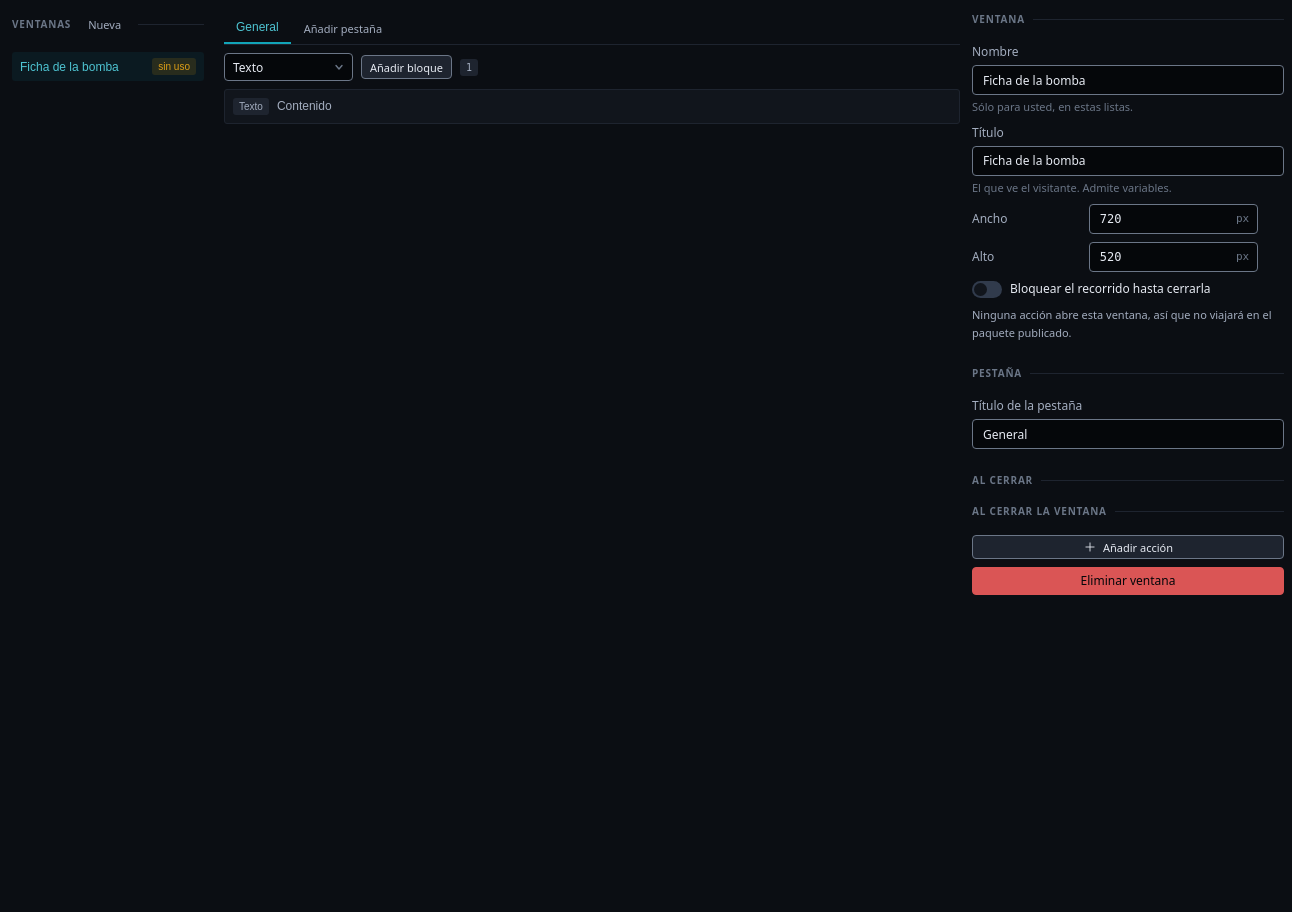
Test: InfoWindowsModule › TEST-IWM-005 un bloque que necesita algo que el proyecto no tiene no se crea a medias
This screenshot has width=1292, height=912.
Select "Documento" in the dropdown named "Tipo de bloque" at (288, 67), box 224,53 -> 353,81
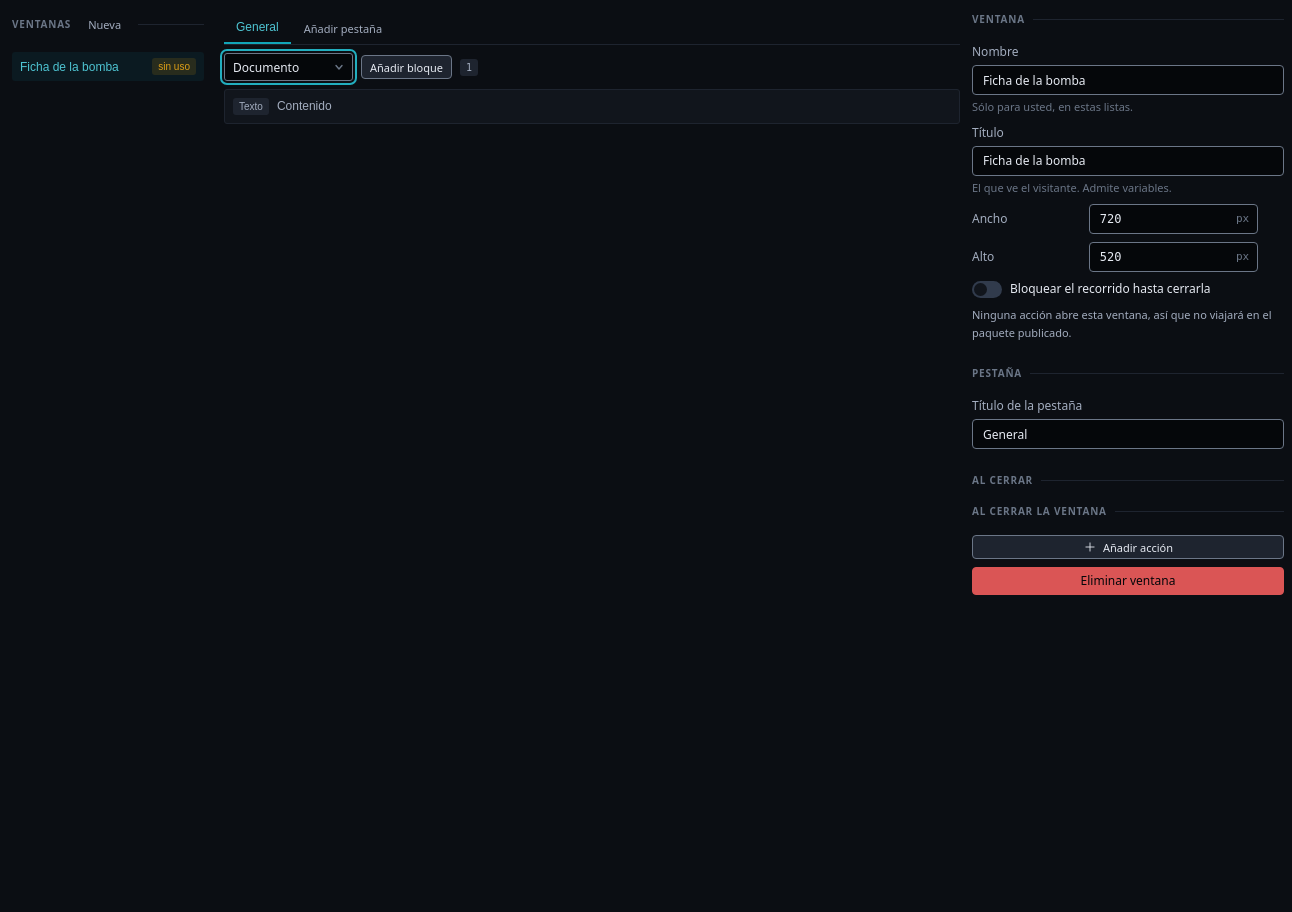
Click the button "Añadir bloque" at (406, 67), box 361,55 -> 452,79
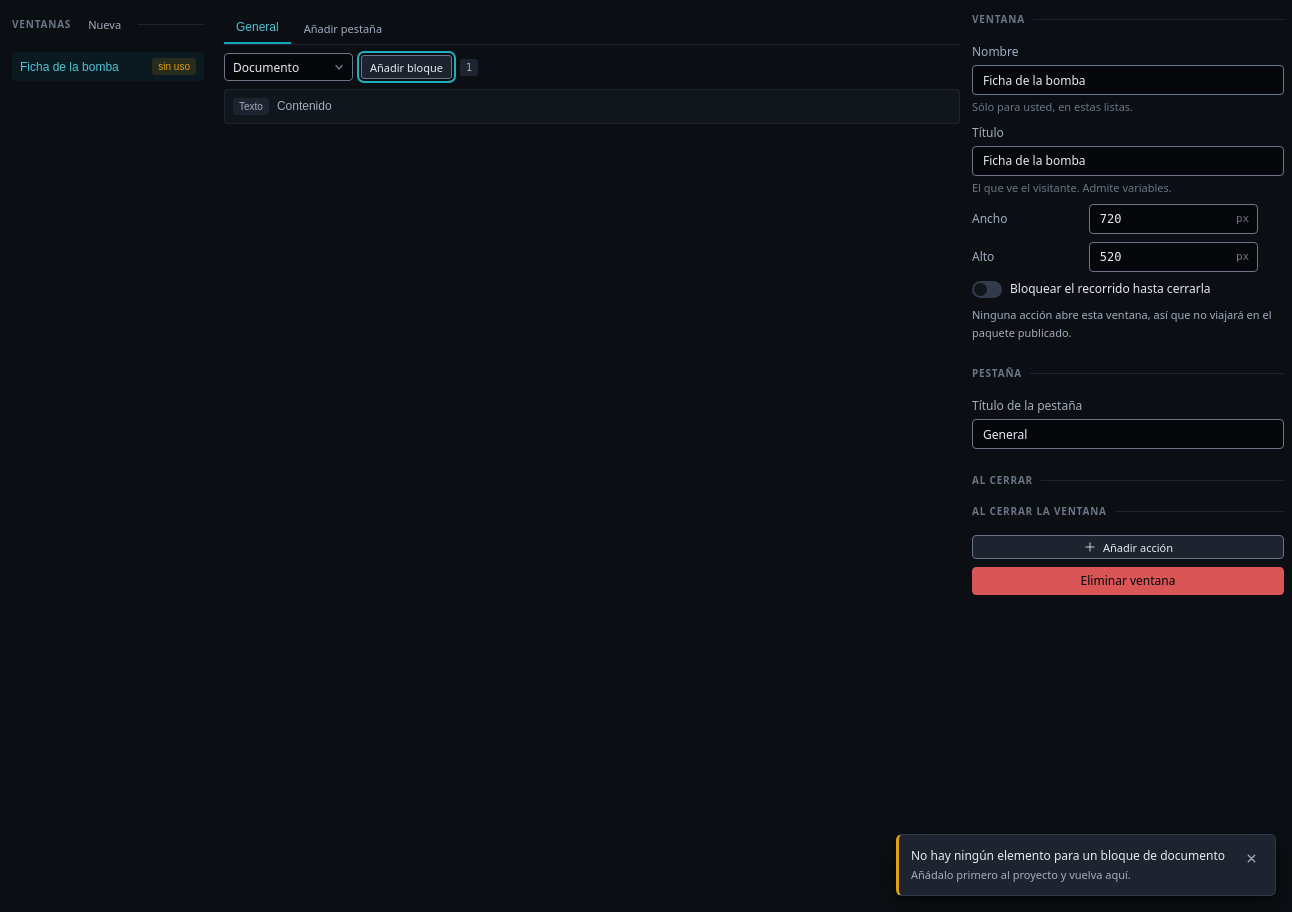
Now the text "No hay ningún elemento para un bloque de documento" is shown, box 911,846 -> 1231,864
